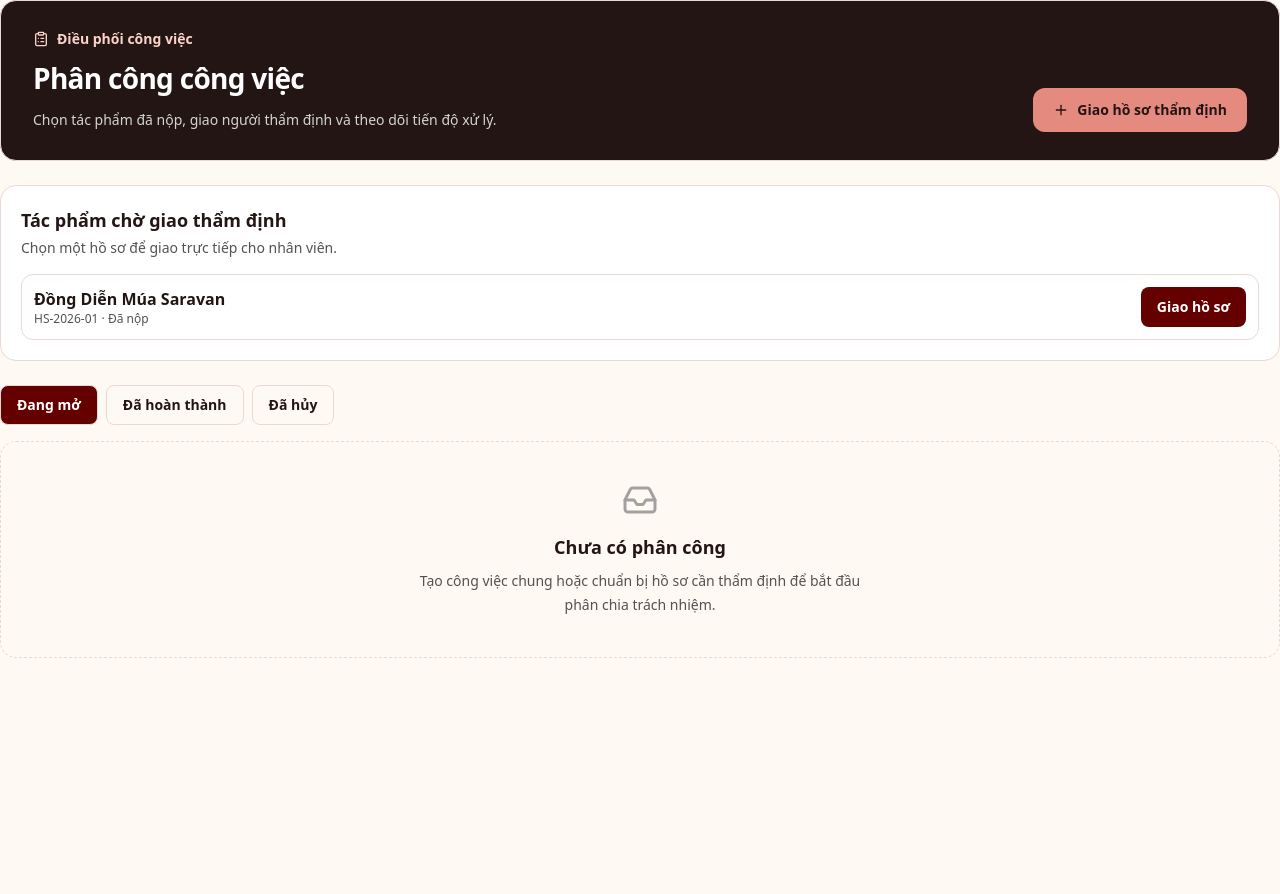
Test: WorkAllocationWorkspace › opens the dossier composer from the unified allocation workspace
Expected: the text "Đồng Diễn Múa Saravan" is shown, [34,287,225,311]
Click the button "Giao hồ sơ": (1193, 307) [1141,287,1246,327]
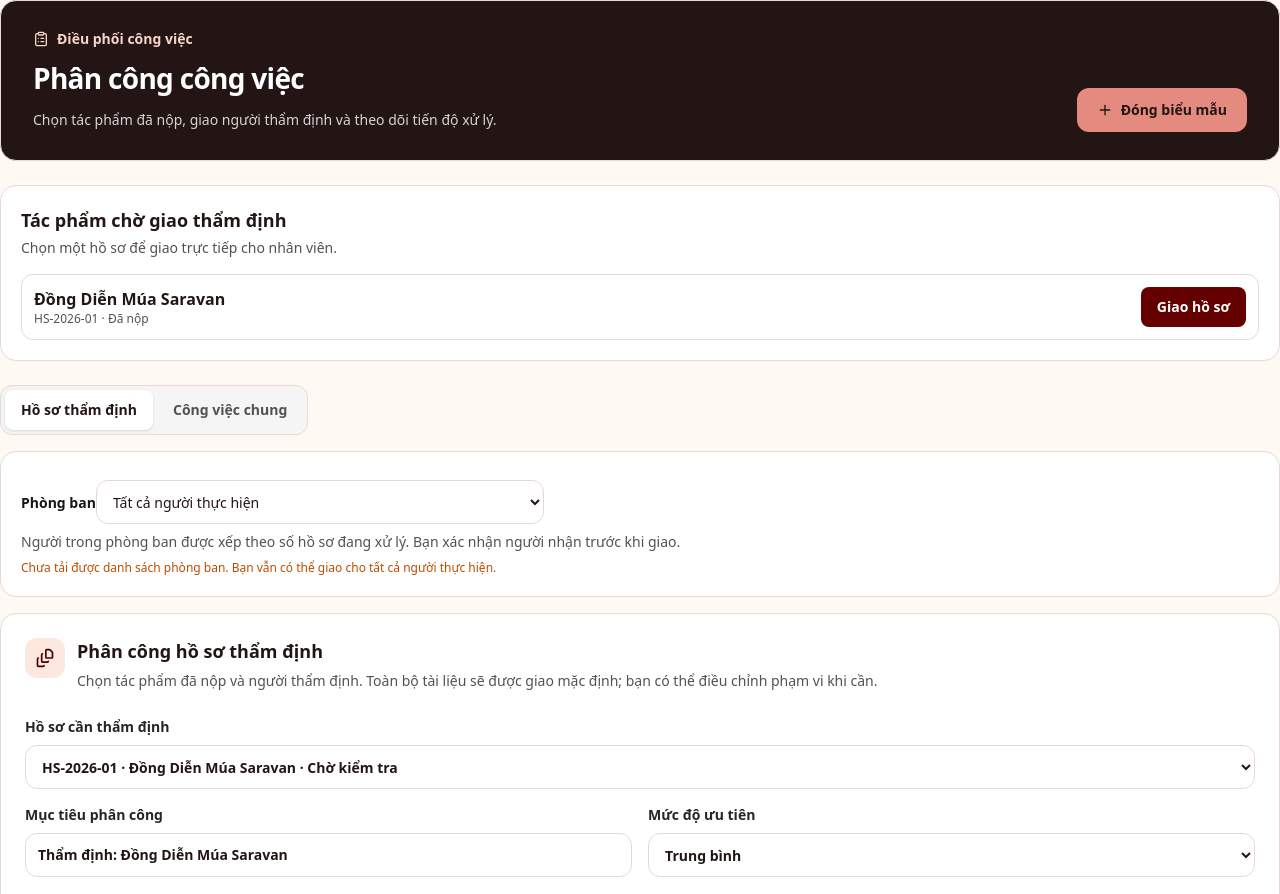
Result: the heading "Phân công hồ sơ thẩm định" is shown at [77,639,323,663]
Result: the dropdown labelled "Hồ sơ cần thẩm định" shows "HS-2026-01 · Đồng Diễn Múa Saravan · Chờ kiểm tra" at [25,745,1255,789]
